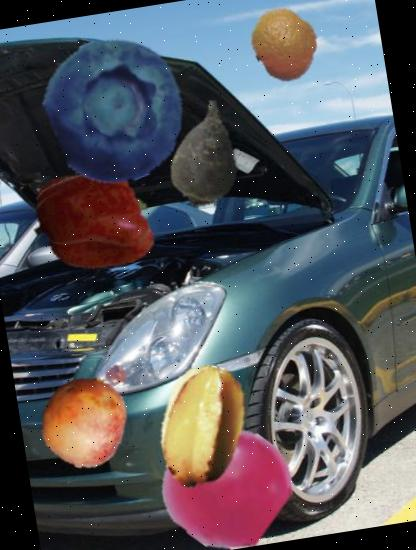Beetroot: (137, 90, 272, 224)
Carambula: (132, 356, 274, 498)
Huckleberry: (32, 27, 200, 194)
Mandarine: (242, 1, 330, 88)
Peach: (31, 368, 137, 474)
Pepper: (27, 155, 160, 288)
Redcurrant: (156, 415, 297, 550)
